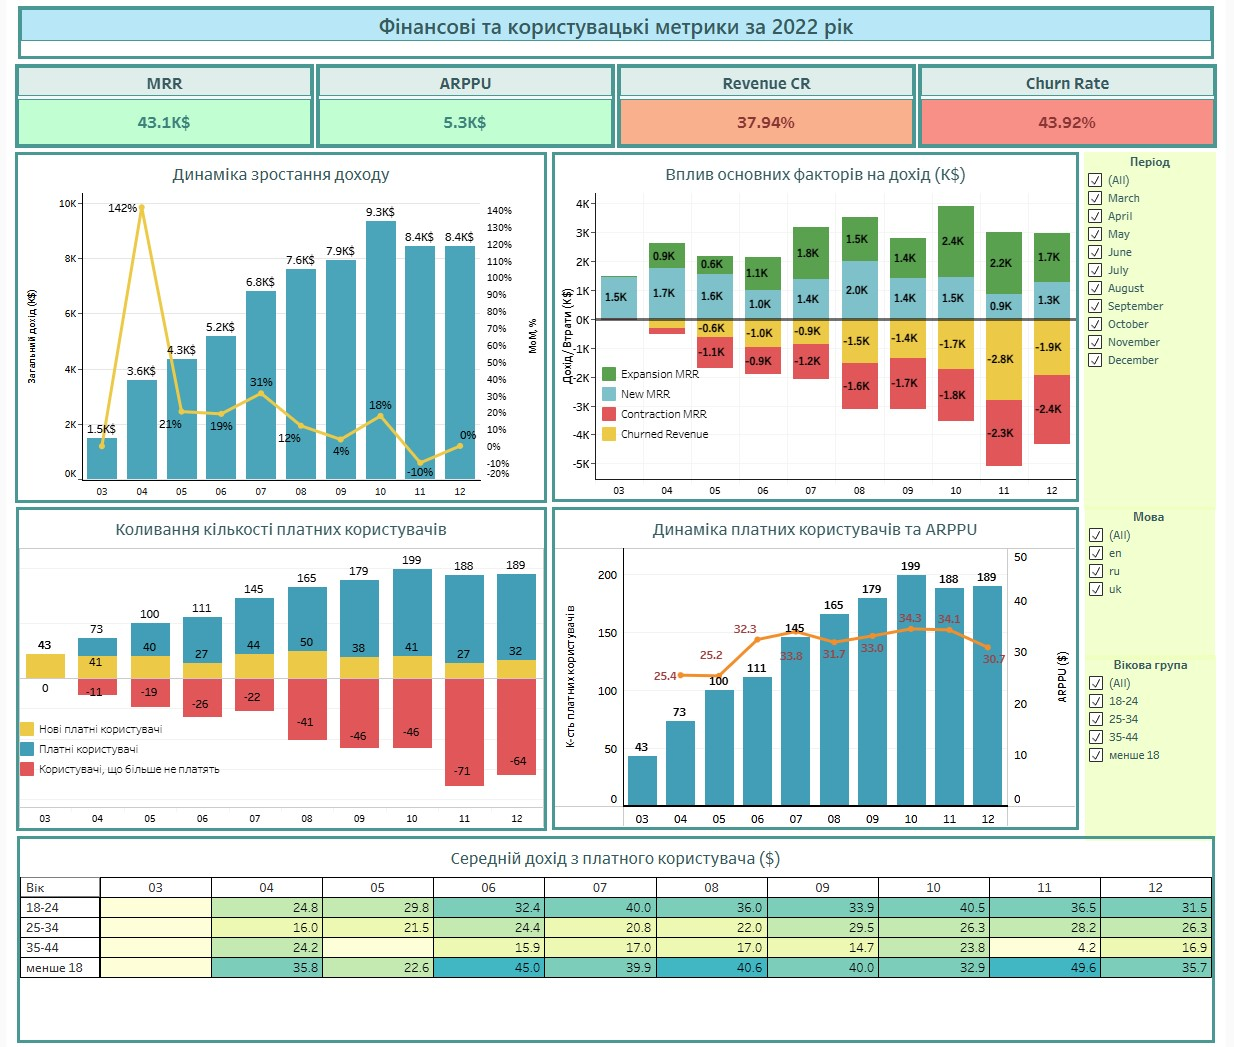

The dashboard page shown, as its layout file describes it:
{"tool":"tableau","page":{"name":"Diploma Olha Ryzha","canvas":[1000,1000],"units":"permille","ordinal":0},"visuals":[{"type":"worksheet","title":"Фінансові та користувацькі метрики за 2022 рік","mark":"Automatic","box":[6.6,8.3,986.9,58.3]},{"type":"worksheet","title":"MRR","mark":"Automatic","box":[6.6,66.6,246.7,81.2]},{"type":"worksheet","title":"ARPPU","mark":"Automatic","box":[253.2,66.6,246.8,81.2]},{"type":"worksheet","title":"Revenue CR","mark":"Automatic","box":[500,66.6,246.7,81.2]},{"type":"worksheet","title":"Churn Rate","mark":"Automatic","box":[746.7,66.6,246.7,81.2]},{"type":"worksheet","title":"Динаміка зростання доходу","mark":"Bar","rows":["total_revenue","Calculation_206321200397680649"],"cols":["month"],"box":[7.4,150,436.1,333.3]},{"type":"worksheet","title":"Вплив основних факторів на дохід (K$)","mark":"Bar","cols":["month"],"box":[447.5,150,432,332.3]},{"type":"filter","title":"Вплив основних факторів на дохід (K$)","param":"[federated.0relkv10naledm1ce2a8i1gwezup].[mn:month:ok]","box":[883.6,150,108.2,339.6]},{"type":"legend","title":"Вплив основних факторів на дохід (K$)","param":"[federated.0relkv10naledm1ce2a8i1gwezup].[:Measure Names]","box":[486.1,334.4,146.7,125]},{"type":"worksheet","title":"Коливання кількості платних користувачів","mark":"Bar","rows":["paid_users","new_paid_users","Calculation_1439744549286539267"],"cols":["month"],"box":[8.2,487.5,435.2,307.3]},{"type":"worksheet","title":"Динаміка платних користувачів та ARPPU","mark":"Bar","rows":["paid_users","Calculation_634444640963194881"],"cols":["month"],"box":[447.5,487.5,432,306.2]},{"type":"filter","title":"Динаміка зростання доходу","param":"[federated.0relkv10naledm1ce2a8i1gwezup].[none:language:nk]","box":[884.4,487.5,106.6,144.8]},{"type":"filter","title":"Динаміка зростання доходу","param":"[federated.0relkv10naledm1ce2a8i1gwezup].[none:age_group:nk]","box":[884.4,628.1,107.4,176]},{"type":"legend","title":"Коливання кількості платних користувачів","param":"[federated.0relkv10naledm1ce2a8i1gwezup].[:Measure Names]","box":[9,671.9,256.6,100]},{"type":"worksheet","title":"Середній дохід з платного користувача ($)","mark":"Square","rows":["age_group"],"cols":["month"],"box":[9,800,982,195.8]}]}

Visuals, with their boxes on the dashboard's canvas, which has no fixed pixel size, in thousandths of its width and height (x1, y1, x2, y2). These are canvas units, not pixel positions in the 1234x1047 screenshot, which may show the page scaled, cropped or inside an application window:
"Фінансові та користувацькі метрики за 2022 рік" worksheet: pyautogui.locateOnScreen(7, 8, 994, 67)
"MRR" worksheet: pyautogui.locateOnScreen(7, 67, 253, 148)
"ARPPU" worksheet: pyautogui.locateOnScreen(253, 67, 500, 148)
"Revenue CR" worksheet: pyautogui.locateOnScreen(500, 67, 747, 148)
"Churn Rate" worksheet: pyautogui.locateOnScreen(747, 67, 993, 148)
"Динаміка зростання доходу" worksheet (Bar marks): pyautogui.locateOnScreen(7, 150, 444, 483)
"Вплив основних факторів на дохід (K$)" worksheet (Bar marks): pyautogui.locateOnScreen(448, 150, 880, 482)
"Вплив основних факторів на дохід (K$)" filter: pyautogui.locateOnScreen(884, 150, 992, 490)
"Вплив основних факторів на дохід (K$)" legend: pyautogui.locateOnScreen(486, 334, 633, 459)
"Коливання кількості платних користувачів" worksheet (Bar marks): pyautogui.locateOnScreen(8, 488, 443, 795)
"Динаміка платних користувачів та ARPPU" worksheet (Bar marks): pyautogui.locateOnScreen(448, 488, 880, 794)
"Динаміка зростання доходу" filter: pyautogui.locateOnScreen(884, 488, 991, 632)
"Динаміка зростання доходу" filter: pyautogui.locateOnScreen(884, 628, 992, 804)
"Коливання кількості платних користувачів" legend: pyautogui.locateOnScreen(9, 672, 266, 772)
"Середній дохід з платного користувача ($)" worksheet (Square marks): pyautogui.locateOnScreen(9, 800, 991, 996)
